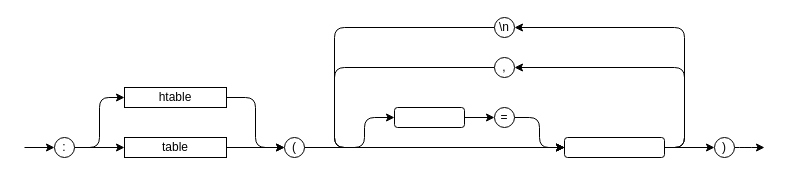
Image size: 790x175. Some labels were removed from this diagram. The box of each missing label's shape, as (x1, y1, x2, y2) in pixels:
expression: (564, 136, 664, 158)
name: (394, 106, 464, 128)
